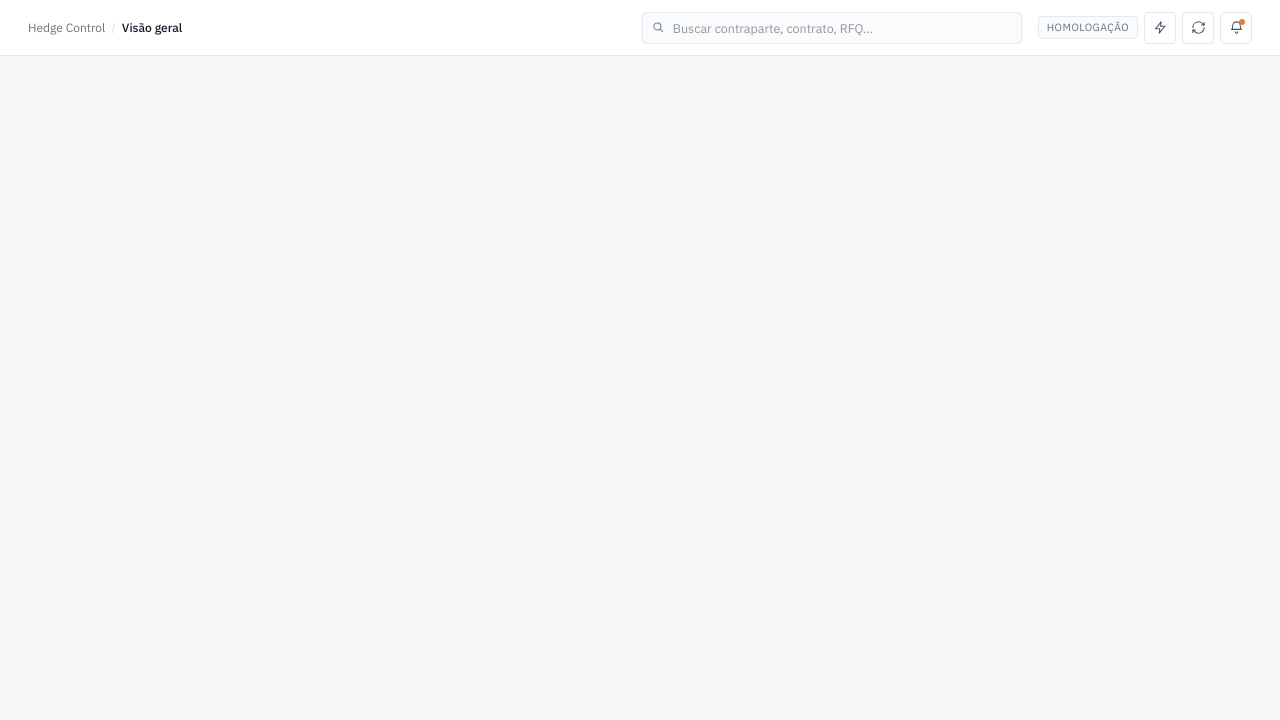
Test: institutional foundation components › opens quick actions from the topbar action button
The image size is (1280, 720).
Click the button named "Ações rápidas": coordinates (1160, 28) [1144,12,1176,44]
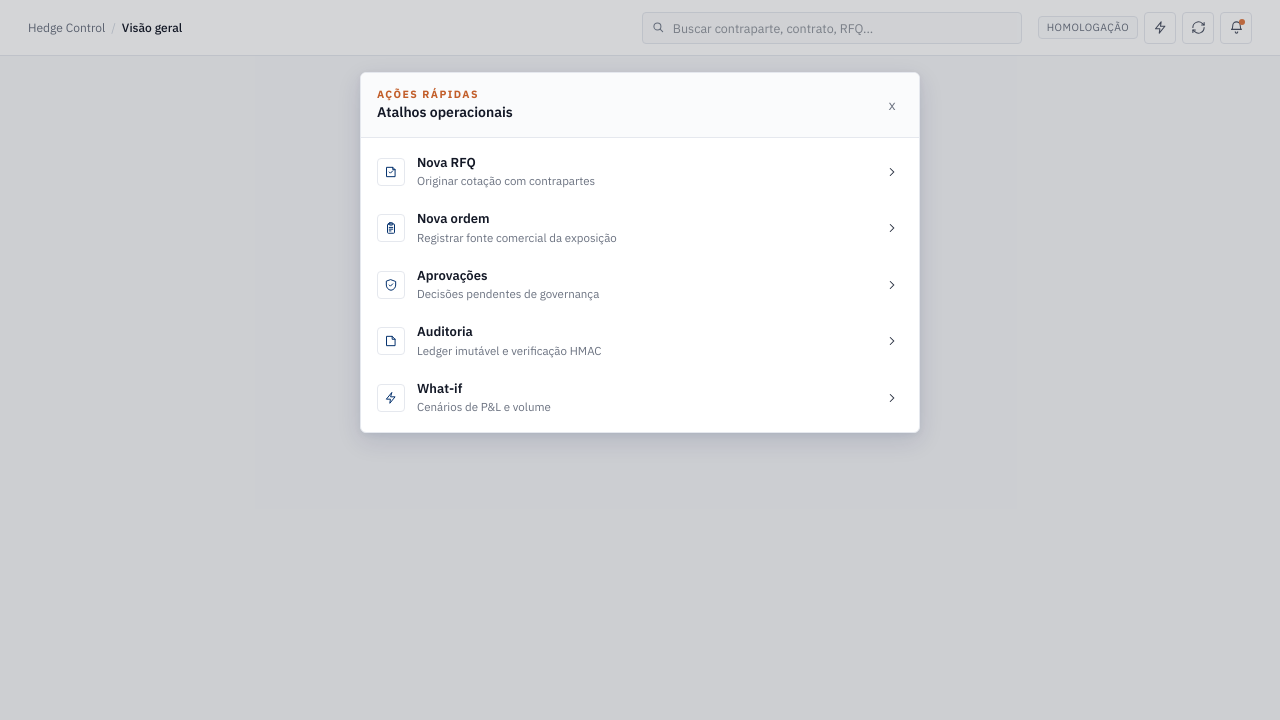
Expected: the dialog "Ações rápidas" is shown, [360,72,920,433]
